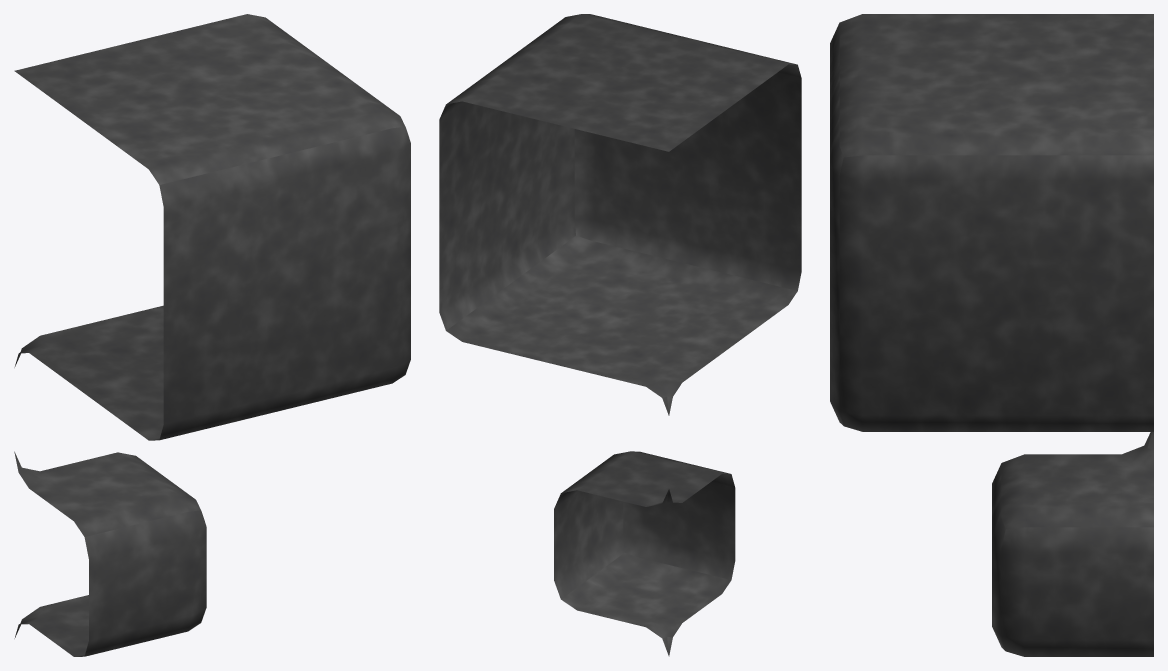
Rendered from BasementAngle.fbx.
3 renders of one model, left to right at view 1: azimuth 30°, elevation 25°; view 2: azimuth 150°, elevation 25°; view 3: azimuth 270°, elevation 25°, orthographic. The views are drawn at different scales.
Visible parts, largest first — view 1: BasementAngle; view 2: BasementAngle; view 3: BasementAngle.
Boxes of the visible parts, x1,y1,x2,y2 form: BasementAngle: (14, 14, 410, 656); BasementAngle: (439, 14, 801, 656); BasementAngle: (830, 14, 1153, 656).
Bounding box in the file's own units: 10 × 21 × 10.
Materials: 1 (1 with a texture image).
